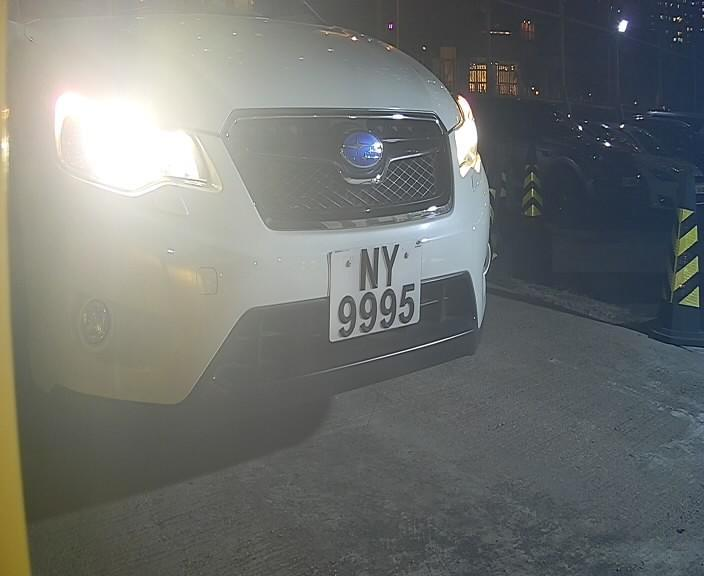Car: (10, 21, 573, 456)
License Plate: (318, 224, 425, 358)
